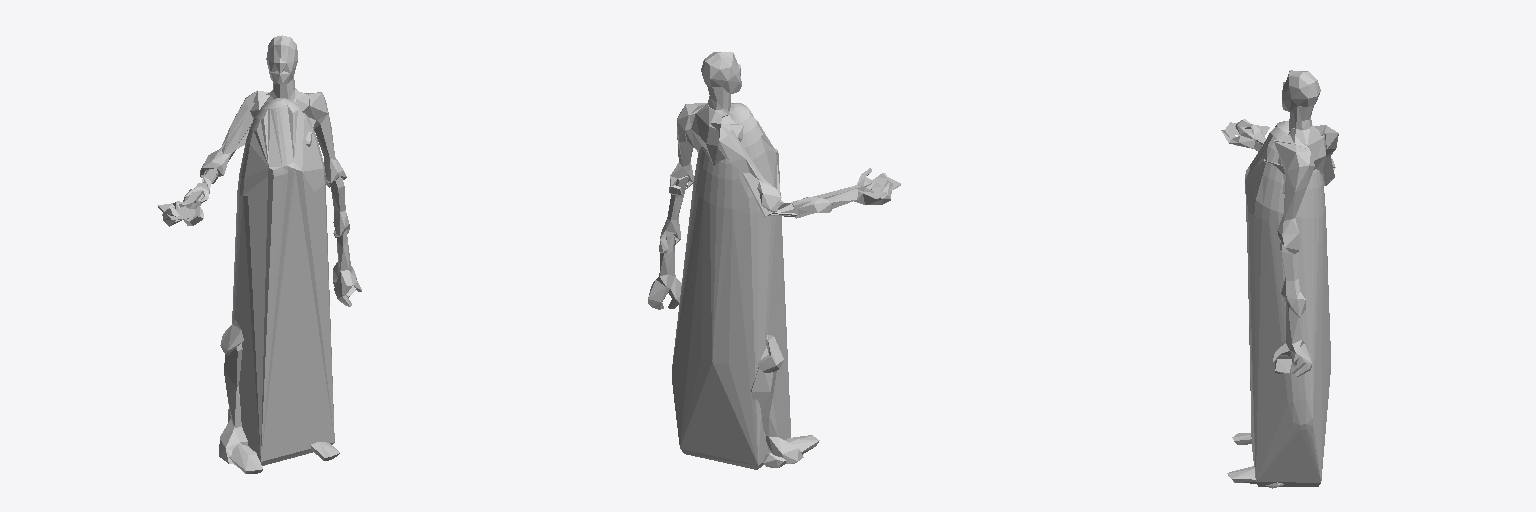
The model's file is Mannequin.obj.
3 renders of one model, left to right at view 1: azimuth 30°, elevation 25°; view 2: azimuth 150°, elevation 25°; view 3: azimuth 270°, elevation 25°, orthographic.
Visible parts, largest first — view 1: UCX_1_Coll1, Mannequin; view 2: UCX_1_Coll1, Mannequin; view 3: UCX_1_Coll1, Mannequin.
Part boxes in pixels (x1,y1,x2,y2): UCX_1_Coll1: (158, 98, 334, 465); Mannequin: (162, 35, 361, 473); UCX_1_Coll1: (672, 103, 900, 469); Mannequin: (648, 52, 892, 467); UCX_1_Coll1: (1225, 121, 1334, 486); Mannequin: (1221, 70, 1338, 488).
Size of the model in its own units: 124 by 221 by 58.25.